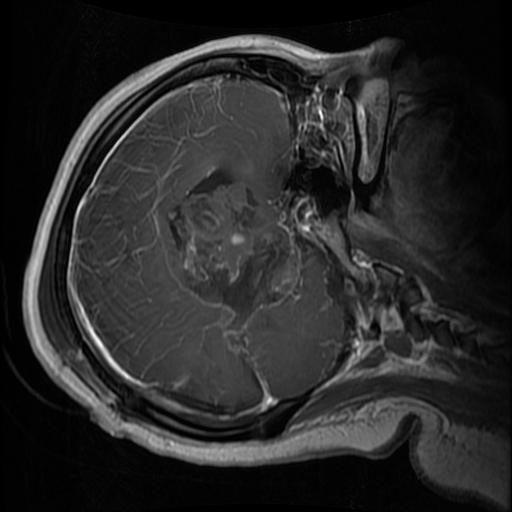glioma: (165, 163, 303, 353)
